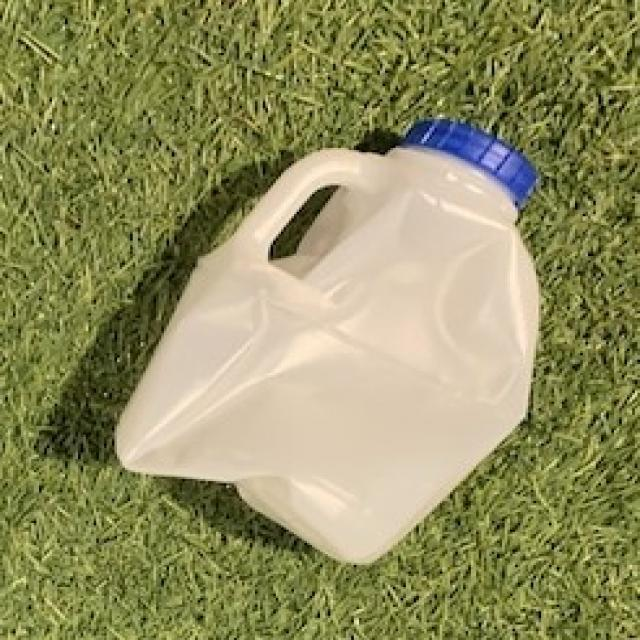HDPE Plastic: (108, 114, 550, 570)
